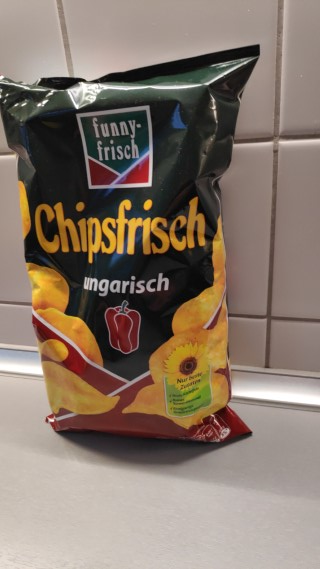chipsfrisch: (1, 41, 262, 446)
